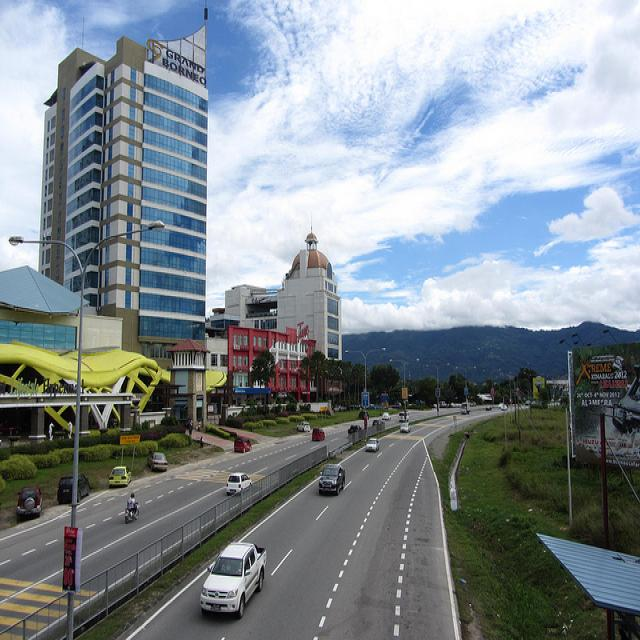motor: (125, 505, 139, 524)
